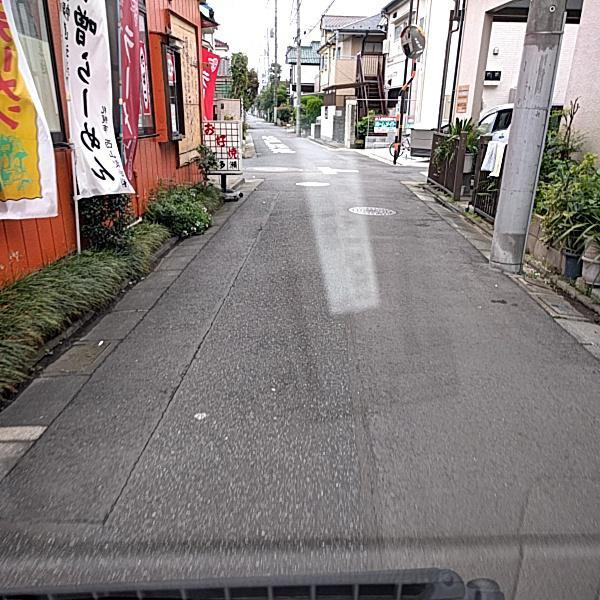D50: (347, 202, 397, 219)
